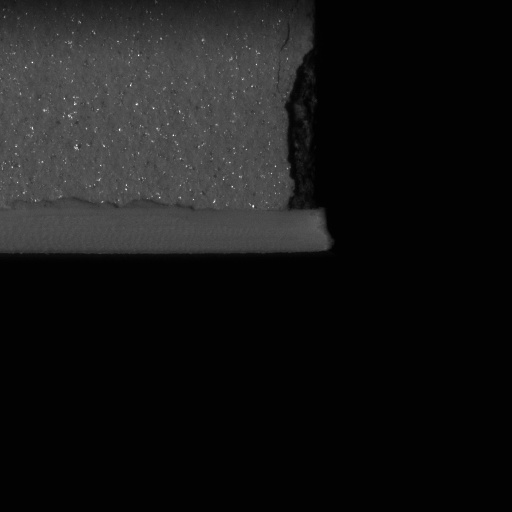bengque: (283, 49, 326, 214)
